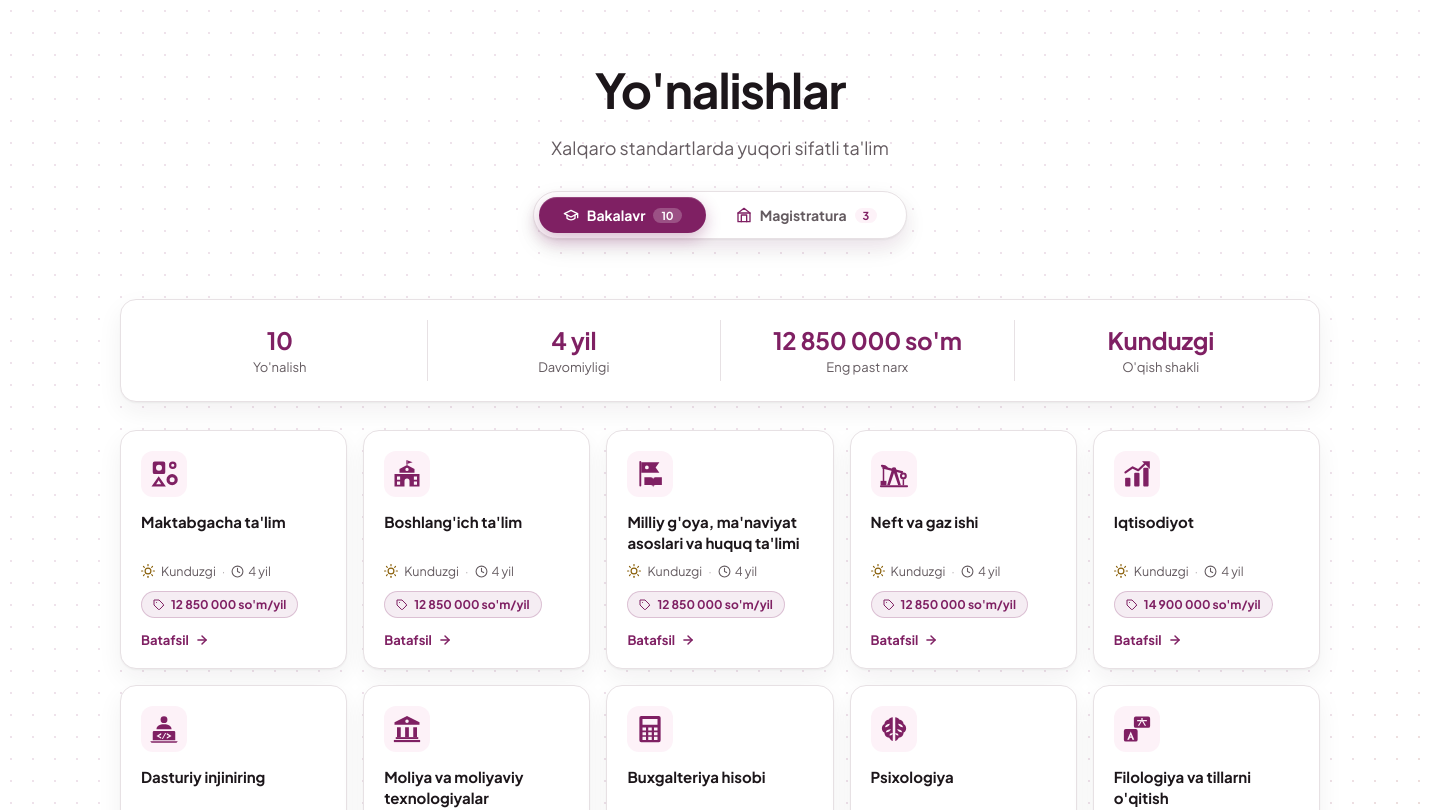
Test: Faculty (public) › 'Magistratura' tabiga o'tilganda ro'yxat va statistika yangilanadi
The image size is (1440, 810).
Click the button "Magistratura 3". click: x=806, y=215
box: [712, 197, 901, 233]
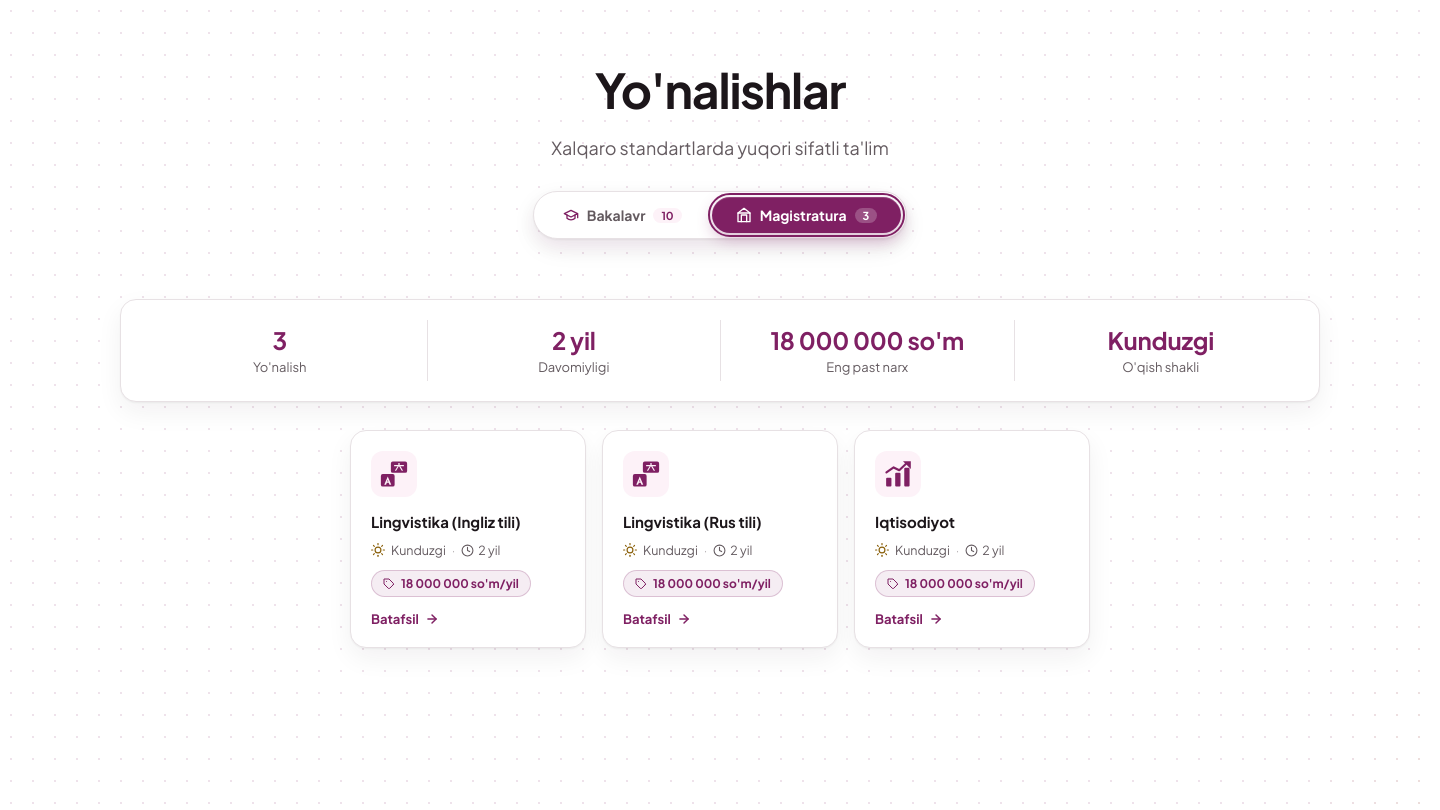
Expected: the heading "Lingvistika (Ingliz tili)" is shown, [371, 512, 521, 531]
Expected: the button "Maktabgacha ta'lim" is gone
Expected: the text "2 yil" is shown, [552, 325, 596, 355]
